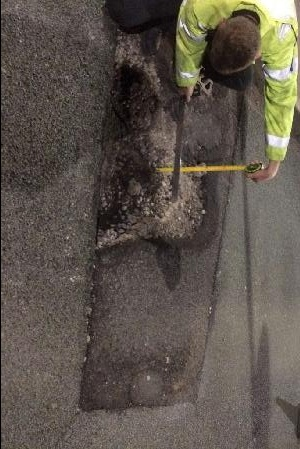pothole: (91, 148, 221, 257)
